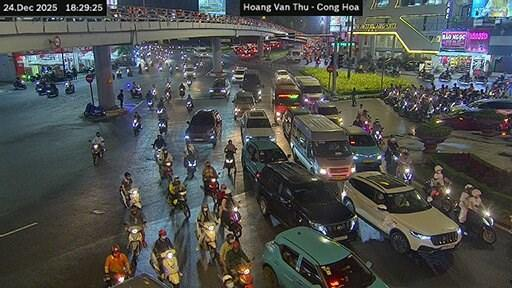motorbike: (423, 179, 457, 217), (150, 248, 181, 287), (464, 208, 496, 243), (195, 221, 216, 259), (166, 189, 188, 217), (221, 206, 240, 238), (128, 225, 141, 263), (234, 262, 251, 287), (105, 271, 127, 286), (396, 163, 412, 183), (204, 178, 217, 202), (386, 148, 397, 174), (83, 103, 105, 116), (223, 152, 234, 175), (90, 144, 102, 165), (185, 153, 195, 178), (160, 162, 172, 181), (128, 188, 140, 206), (44, 85, 57, 97), (131, 118, 140, 135), (157, 118, 166, 133), (384, 68, 400, 76), (35, 80, 44, 94), (153, 148, 162, 162), (12, 80, 25, 89), (373, 130, 381, 144), (361, 122, 371, 133), (422, 72, 434, 81), (131, 86, 140, 98), (64, 81, 73, 93), (438, 72, 451, 80), (185, 99, 192, 112), (473, 75, 486, 82), (156, 107, 165, 117), (150, 88, 156, 99), (462, 76, 470, 84), (185, 76, 191, 86), (125, 67, 131, 76), (115, 68, 121, 77), (147, 99, 153, 108), (165, 93, 169, 102), (179, 86, 182, 98), (157, 64, 162, 71), (458, 76, 462, 84), (137, 66, 141, 72), (166, 88, 169, 93)
